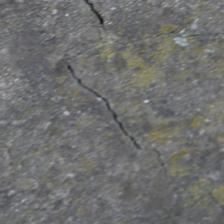Crack: (43, 11, 141, 39), (39, 47, 123, 62)
